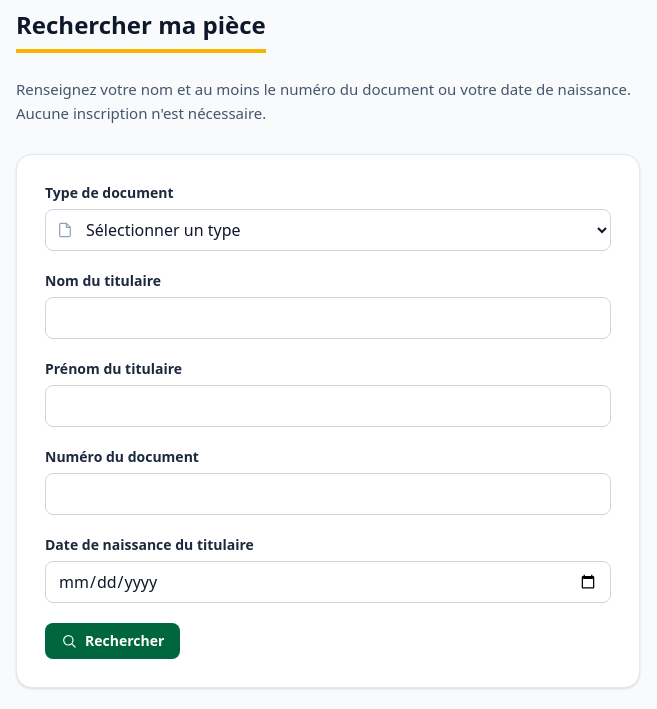
it: RecherchePubliquePage › propose une alerte quand aucun résultat n'est trouvé
Select "Carte Nationale d'Identité (CNI)" in the dropdown labelled "Type de document": (328, 230) [45, 209, 611, 251]
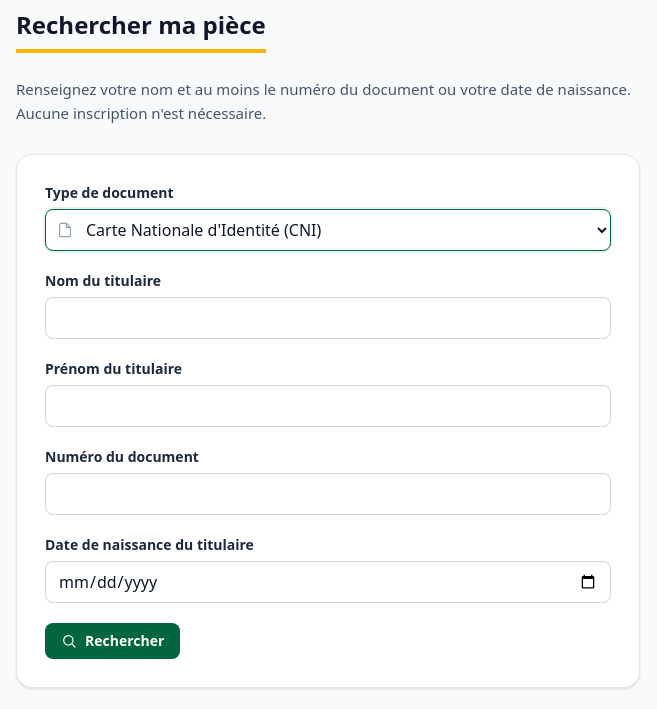
In the field labelled "Nom du titulaire": (328, 318) [45, 297, 611, 339], type "Diop"
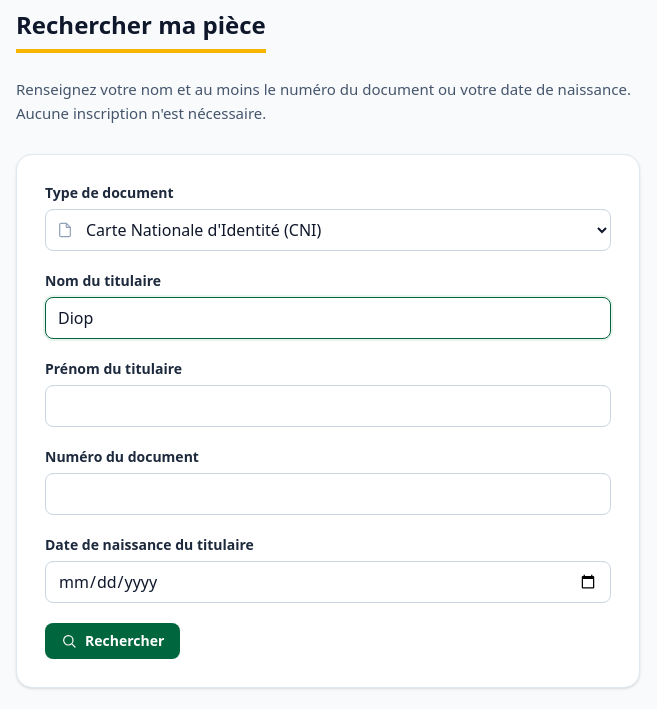
In the field labelled "Numéro du document": (328, 494) [45, 473, 611, 515], type "1234567890"
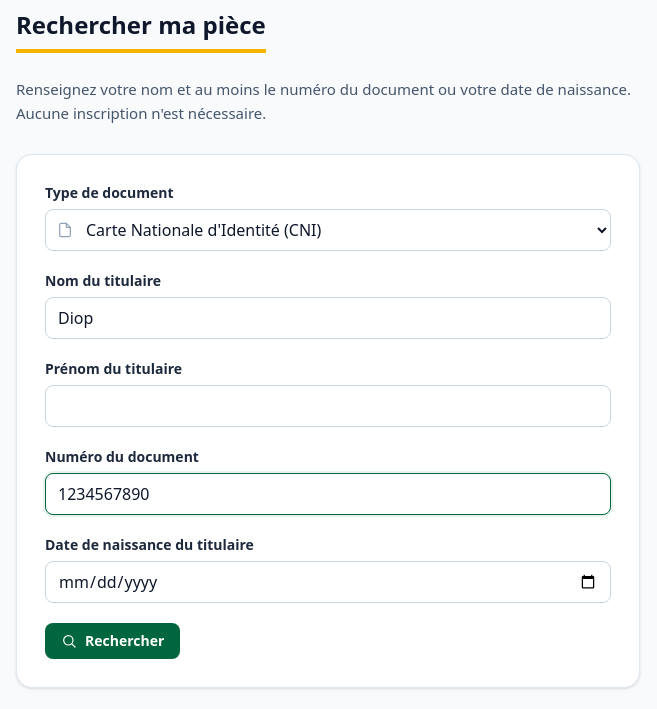
Click the button "Rechercher": (113, 641) [45, 623, 180, 659]
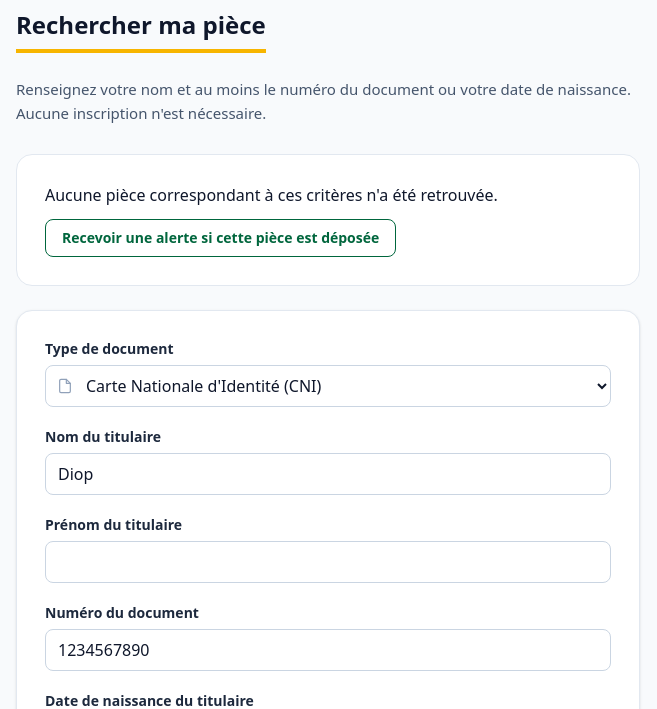
Click the button "Recevoir une alerte si cette pièce est déposée": (221, 238) [45, 219, 396, 257]
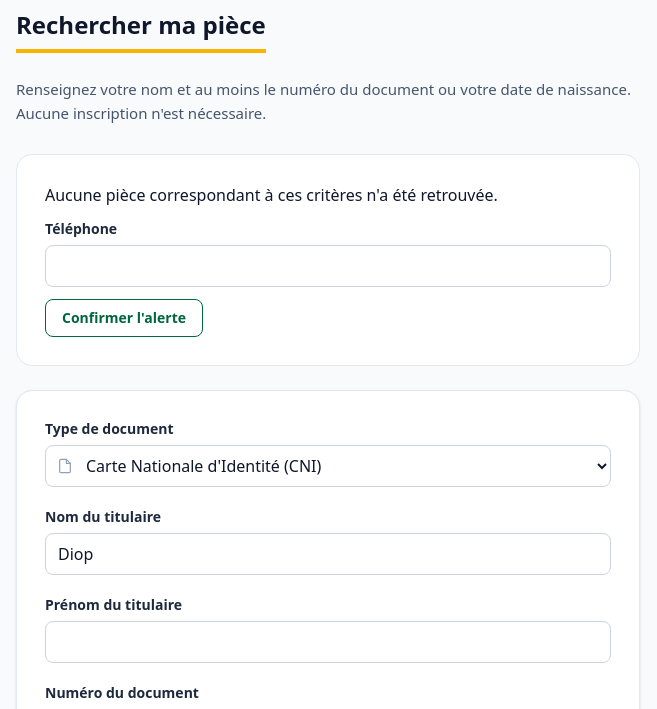
Check: the field labelled "Téléphone" is shown, box [45, 245, 611, 287]
